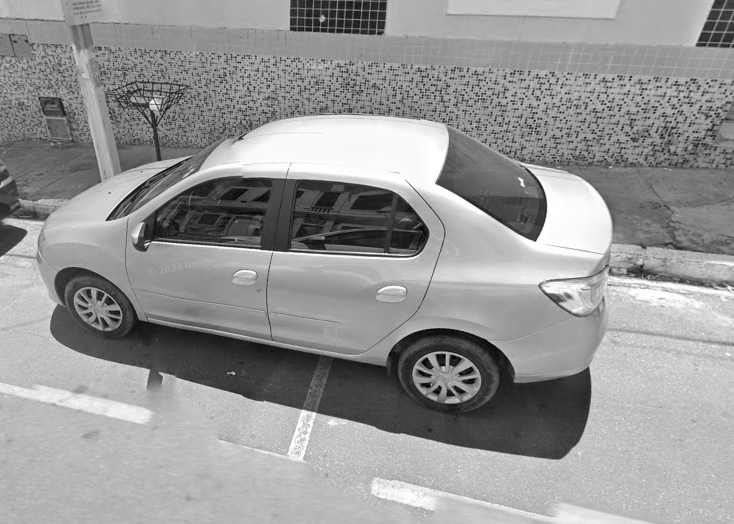car: (24, 102, 633, 436)
